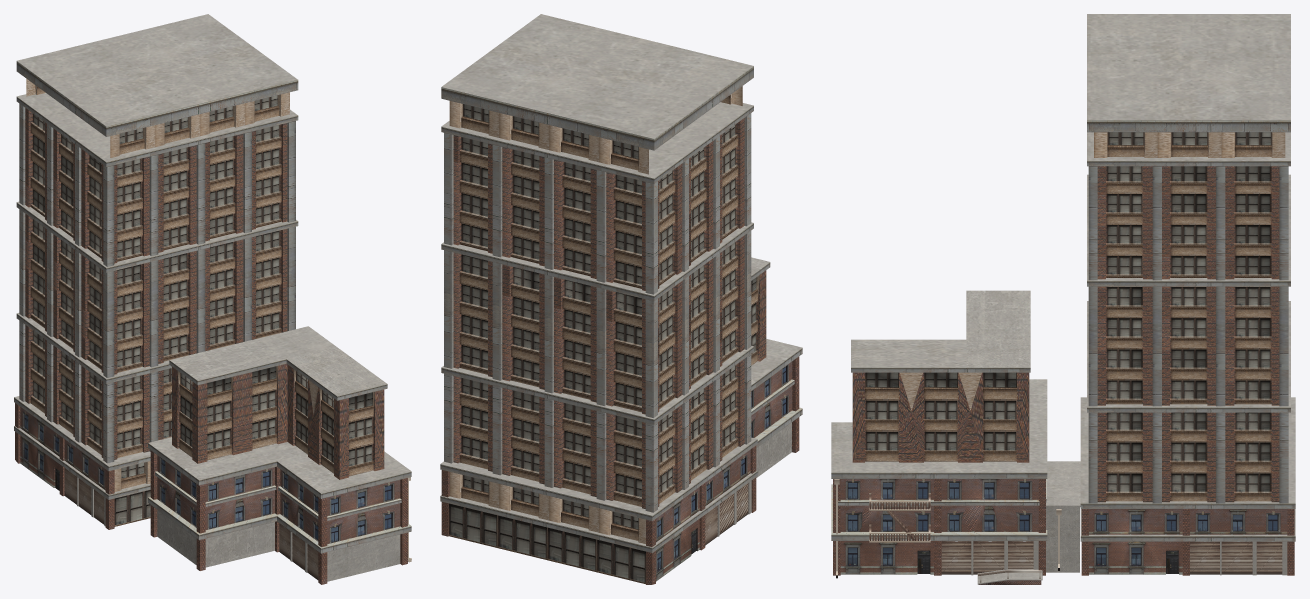
The model's file is Building2_singlep6.fbx.
3 views of the same model, side by side, from view 1: azimuth 30°, elevation 25°; view 2: azimuth 150°, elevation 25°; view 3: azimuth 270°, elevation 25° (orthographic). The views are drawn at different scales.
Parts seen in each view (by area): view 1: Atlas.007; view 2: Atlas.007; view 3: Atlas.007.
Boxes of the visible parts, bbox=[...] form: Atlas.007: bbox=[14, 14, 411, 584]; Atlas.007: bbox=[440, 14, 802, 584]; Atlas.007: bbox=[831, 14, 1295, 584].
Size of the model in its own units: 173 by 322 by 296.
